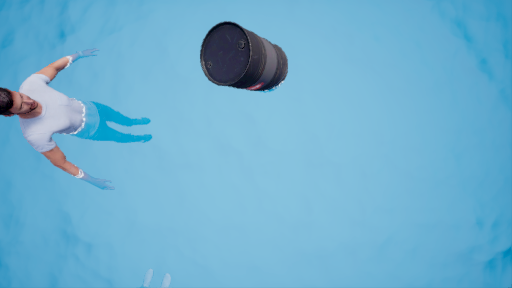person: (3, 57, 143, 191)
